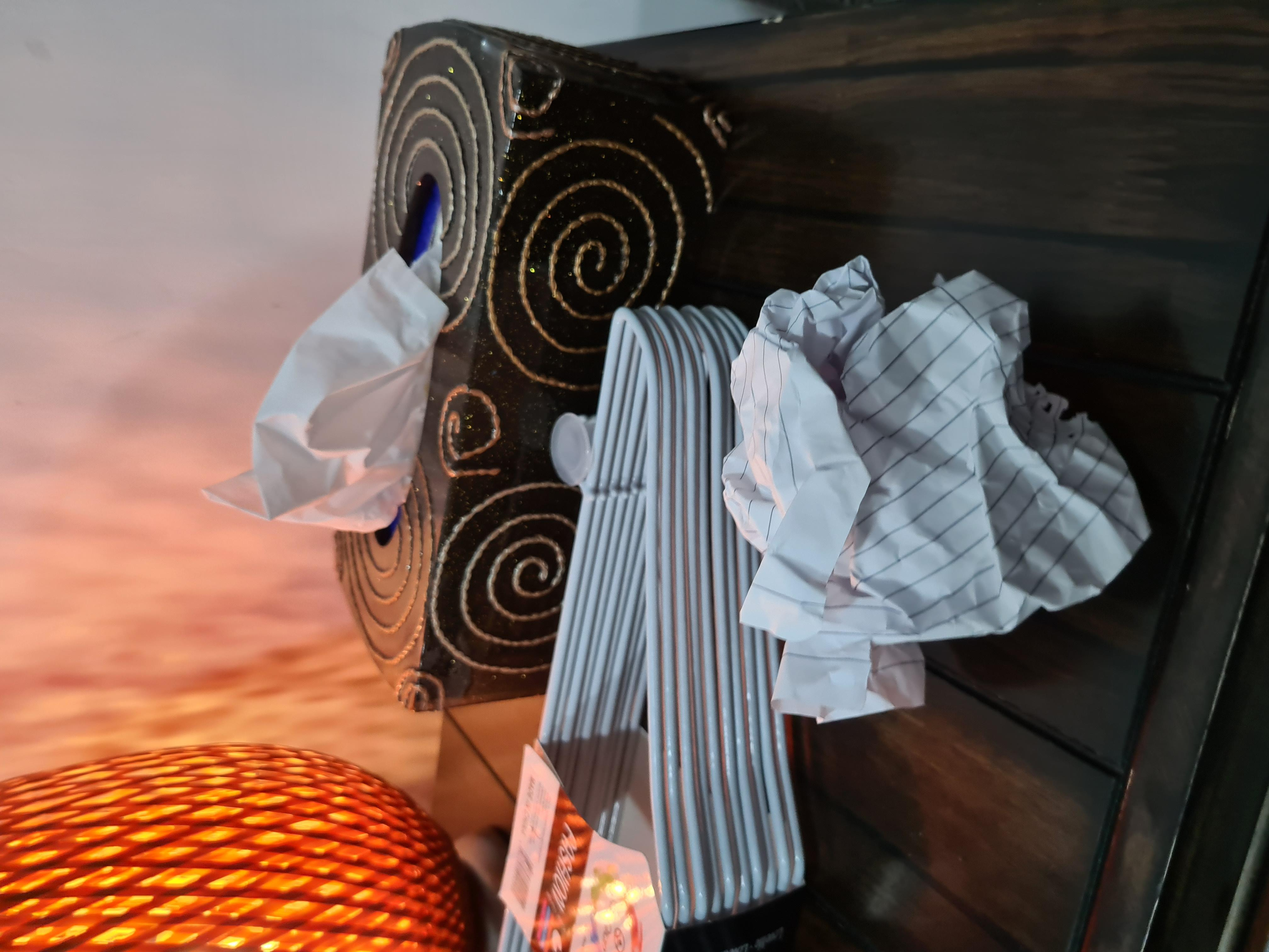paper: (307, 541, 937, 853)
